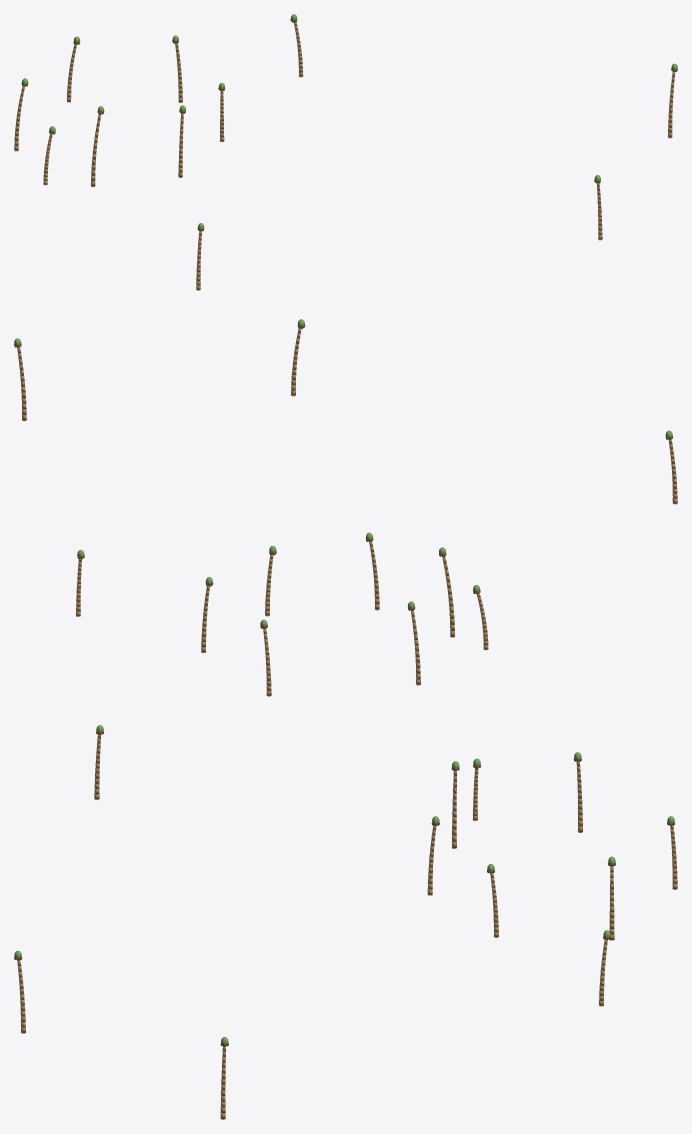
Rendered from SM_CurvedPalmTrunks.fbx.
3 renders of one model, top to bottom at view 1: azimuth 30°, elevation 25°; view 2: azimuth 150°, elevation 25°; view 3: azimuth 270°, elevation 25°, orthographic. The views are drawn at different scales.
Visible parts, largest first — view 1: SM_CurvedPalmTrunks_Export; view 2: SM_CurvedPalmTrunks_Export; view 3: SM_CurvedPalmTrunks_Export.
Part boxes in pixels (box(x1,y1,x2,y2)): SM_CurvedPalmTrunks_Export: box(14, 14, 677, 290); SM_CurvedPalmTrunks_Export: box(14, 319, 677, 696); SM_CurvedPalmTrunks_Export: box(14, 725, 677, 1119).
Bounding box in the file's own units: 6937 × 6317 × 1078.
